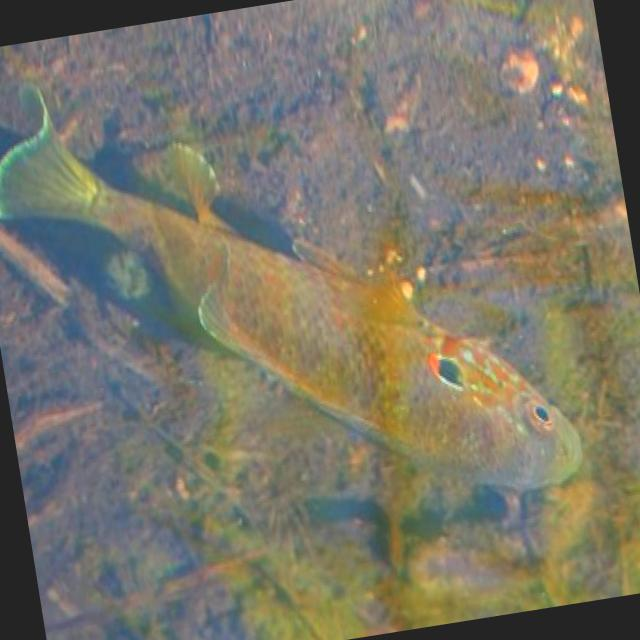Gunes Levregi: (0, 12, 590, 567)
